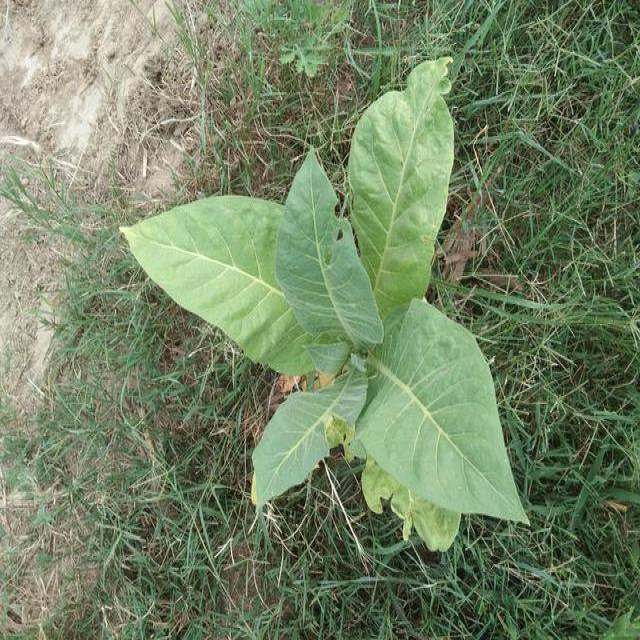crop: (119, 51, 532, 562)
